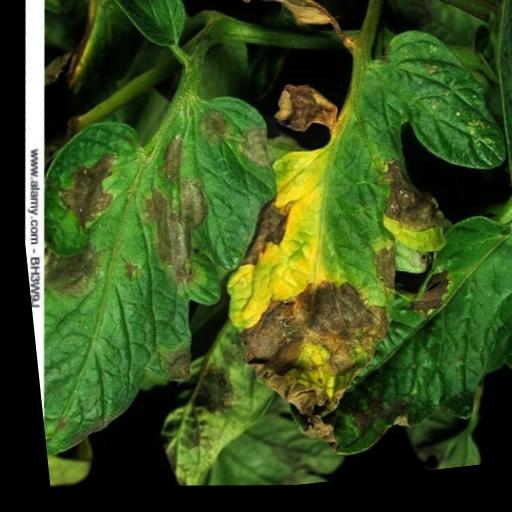Late Blight: (183, 11, 512, 475), (8, 74, 304, 476), (261, 200, 512, 486)
